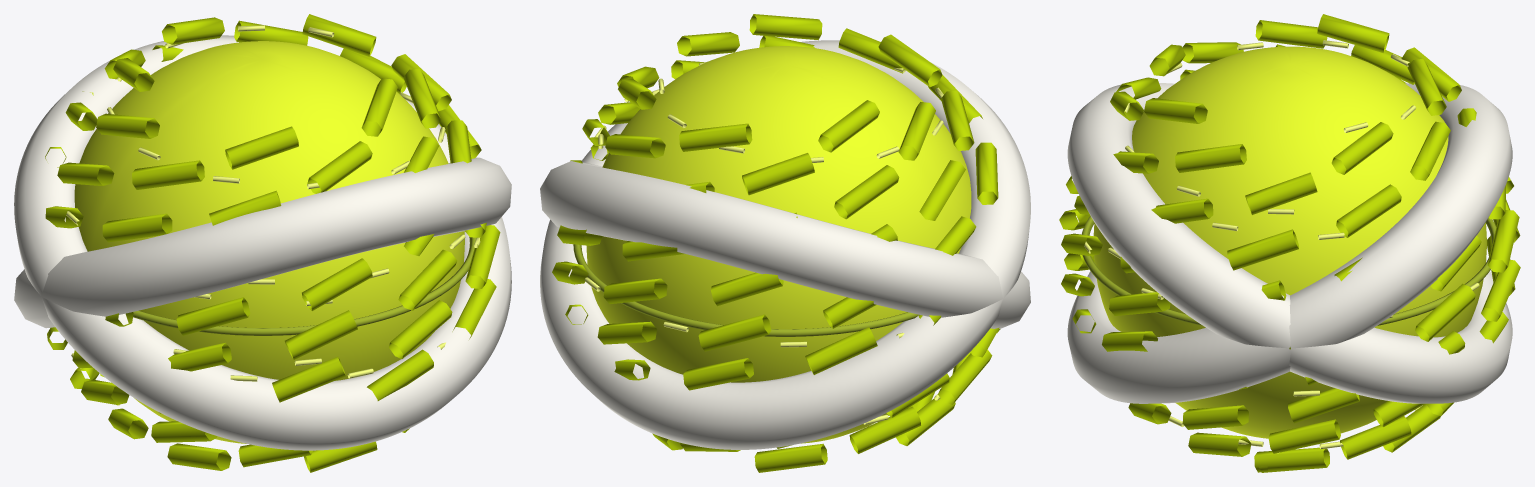
The model's file is Tennisball_3D_v2.glb.
3 views of the same model, side by side, from view 1: azimuth 30°, elevation 25°; view 2: azimuth 150°, elevation 25°; view 3: azimuth 270°, elevation 25° (orthographic). The views are drawn at different scales.
Visible parts, largest first — view 1: Tennisball_3D_v2__web_soft_off_white_raised_tennis_ball_seam, Tennisball_3D_v2__web_neon_yellow_green_tennis_ball_felt_bod, Tennisball_3D_v2__web_darker_raised_tennis_ball_felt_fibers, Tennisball_3D_v2__web_v2_extra_olive_tennis_seam_shadow_fuzz, Tennisball_3D_v2__web_v2_extra_fine_tennis_ball_fuzzy_felt_h; view 2: Tennisball_3D_v2__web_soft_off_white_raised_tennis_ball_seam, Tennisball_3D_v2__web_neon_yellow_green_tennis_ball_felt_bod, Tennisball_3D_v2__web_darker_raised_tennis_ball_felt_fibers, Tennisball_3D_v2__web_v2_extra_olive_tennis_seam_shadow_fuzz, Tennisball_3D_v2__web_v2_extra_fine_tennis_ball_fuzzy_felt_h; view 3: Tennisball_3D_v2__web_soft_off_white_raised_tennis_ball_seam, Tennisball_3D_v2__web_neon_yellow_green_tennis_ball_felt_bod, Tennisball_3D_v2__web_darker_raised_tennis_ball_felt_fibers, Tennisball_3D_v2__web_v2_extra_fine_tennis_ball_fuzzy_felt_h, Tennisball_3D_v2__web_v2_extra_olive_tennis_seam_shadow_fuzz.
Part boxes in pixels (x1,y1,x2,y2): Tennisball_3D_v2__web_soft_off_white_raised_tennis_ball_seam: (14, 35, 511, 450); Tennisball_3D_v2__web_neon_yellow_green_tennis_ball_felt_bod: (74, 41, 464, 443); Tennisball_3D_v2__web_darker_raised_tennis_ball_felt_fibers: (45, 14, 500, 472); Tennisball_3D_v2__web_v2_extra_olive_tennis_seam_shadow_fuzz: (133, 237, 476, 335); Tennisball_3D_v2__web_v2_extra_fine_tennis_ball_fuzzy_felt_h: (66, 25, 480, 405); Tennisball_3D_v2__web_soft_off_white_raised_tennis_ball_seam: (540, 40, 1030, 449); Tennisball_3D_v2__web_neon_yellow_green_tennis_ball_felt_bod: (586, 46, 971, 443); Tennisball_3D_v2__web_darker_raised_tennis_ball_felt_fibers: (552, 14, 1000, 472); Tennisball_3D_v2__web_v2_extra_olive_tennis_seam_shadow_fuzz: (573, 244, 918, 336); Tennisball_3D_v2__web_v2_extra_fine_tennis_ball_fuzzy_felt_h: (584, 61, 943, 424); Tennisball_3D_v2__web_soft_off_white_raised_tennis_ball_seam: (1067, 83, 1512, 403); Tennisball_3D_v2__web_neon_yellow_green_tennis_ball_felt_bod: (1093, 46, 1486, 438); Tennisball_3D_v2__web_darker_raised_tennis_ball_felt_fibers: (1059, 14, 1520, 472); Tennisball_3D_v2__web_v2_extra_fine_tennis_ball_fuzzy_felt_h: (1079, 40, 1479, 453); Tennisball_3D_v2__web_v2_extra_olive_tennis_seam_shadow_fuzz: (1081, 216, 1496, 325).
Bounding box in the file's own units: 0.086 × 0.068 × 0.0797.
